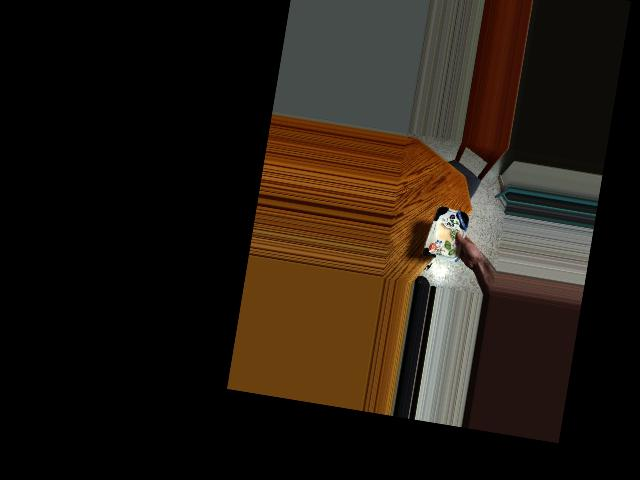cheese: (426, 207, 469, 258)
